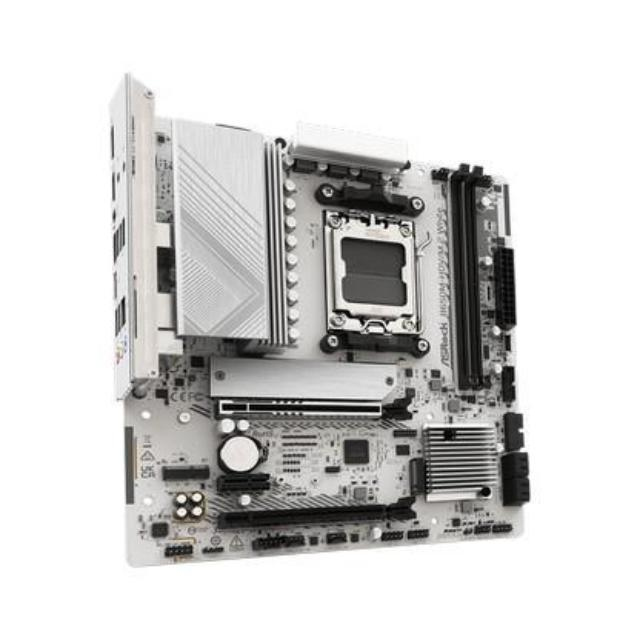Mainboard: (87, 58, 539, 567)
